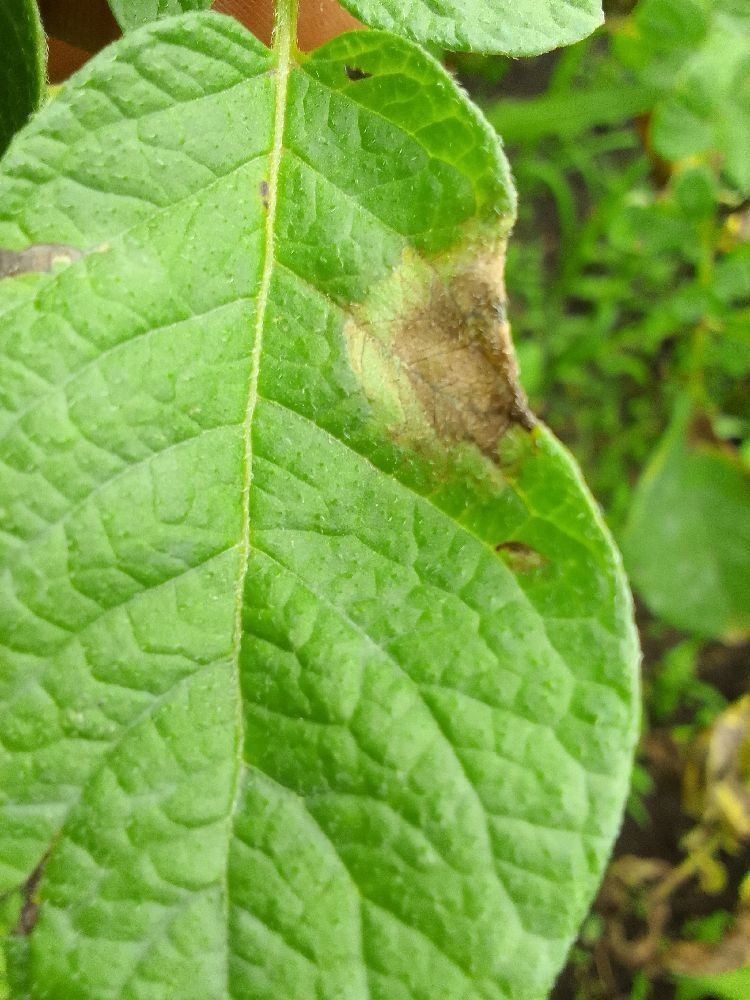late_blight: (535, 614, 749, 999), (363, 220, 646, 504), (428, 33, 579, 123), (26, 0, 133, 96)
